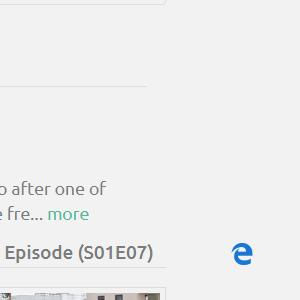edge: (231, 243, 253, 265)
